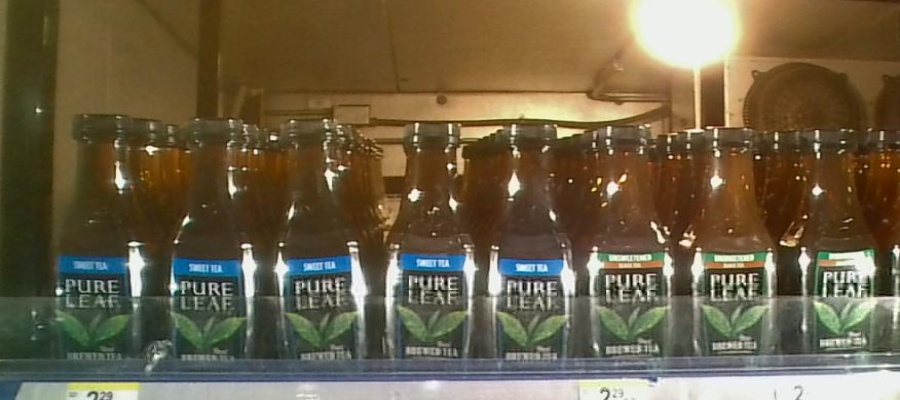bottle: (263, 112, 369, 373), (53, 111, 158, 371), (381, 112, 482, 378), (684, 114, 783, 374), (580, 114, 677, 376), (163, 112, 260, 373), (787, 117, 885, 371), (488, 113, 577, 377)
